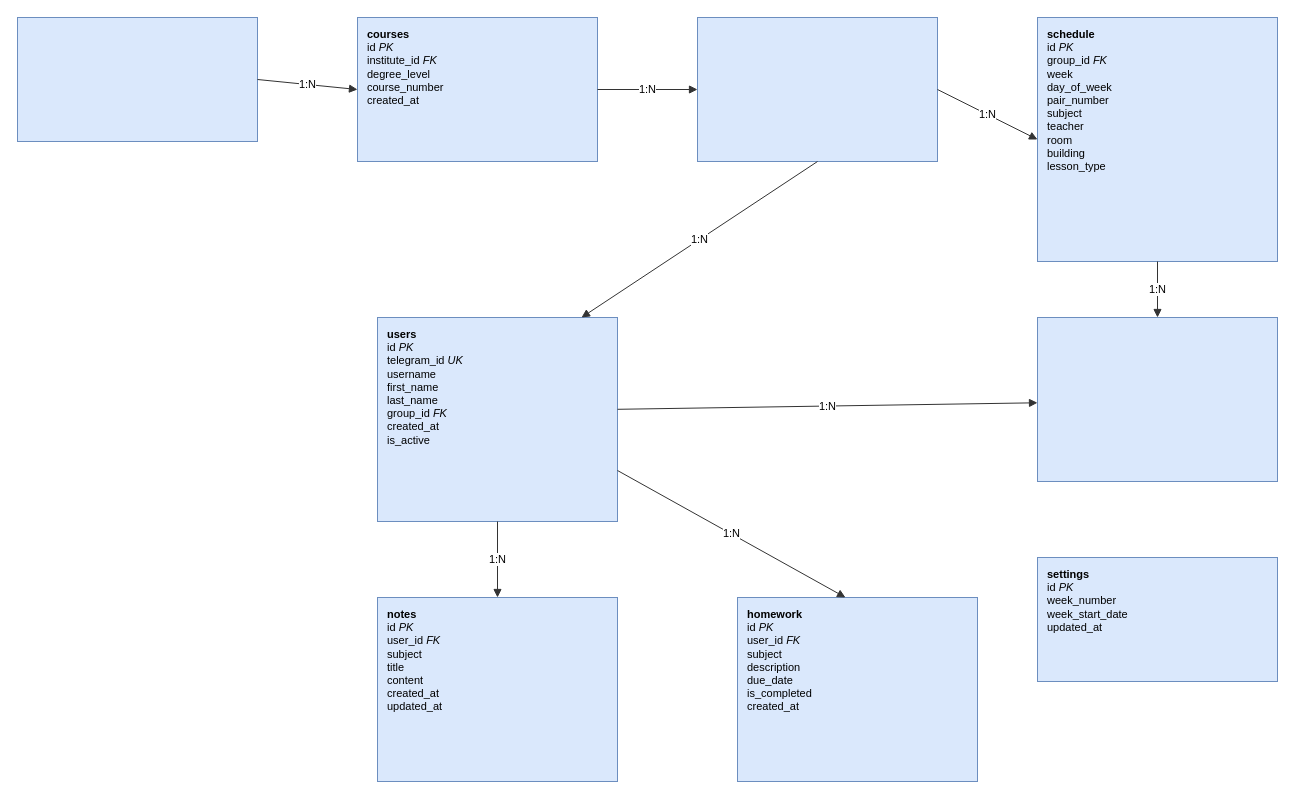
This 1295x799 diagram has some shape labels left out. Each missing label, with the centre of its shape:
"groups id PK course_id FK name subgroup is_active" belongs at point 817,89.
"institutes id PK name short_name UK is_active" belongs at point 137,79.
"reminders id PK user_id FK schedule_id FK remind_before is_active created_at" belongs at point 1157,399.
